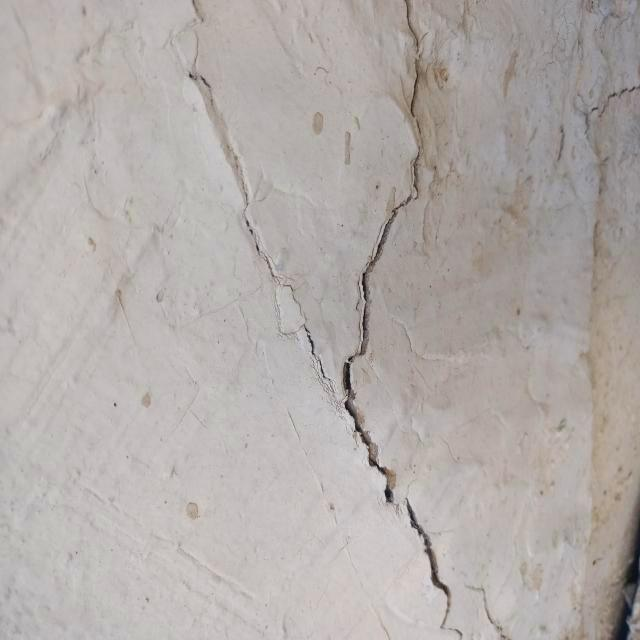SurfaceCrack: (128, 0, 514, 640)
